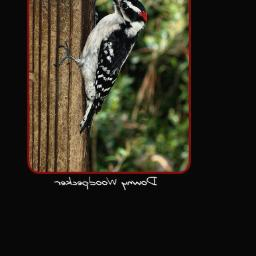Woodpecker: (51, 0, 148, 132)
